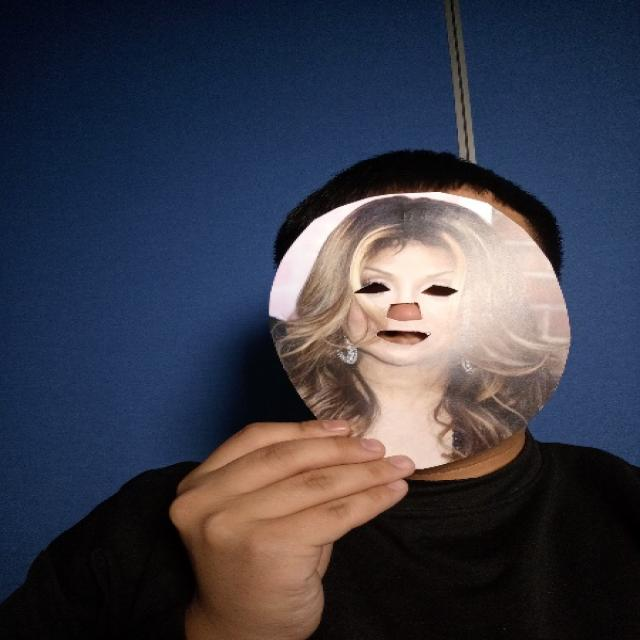mask: (265, 187, 576, 473)
